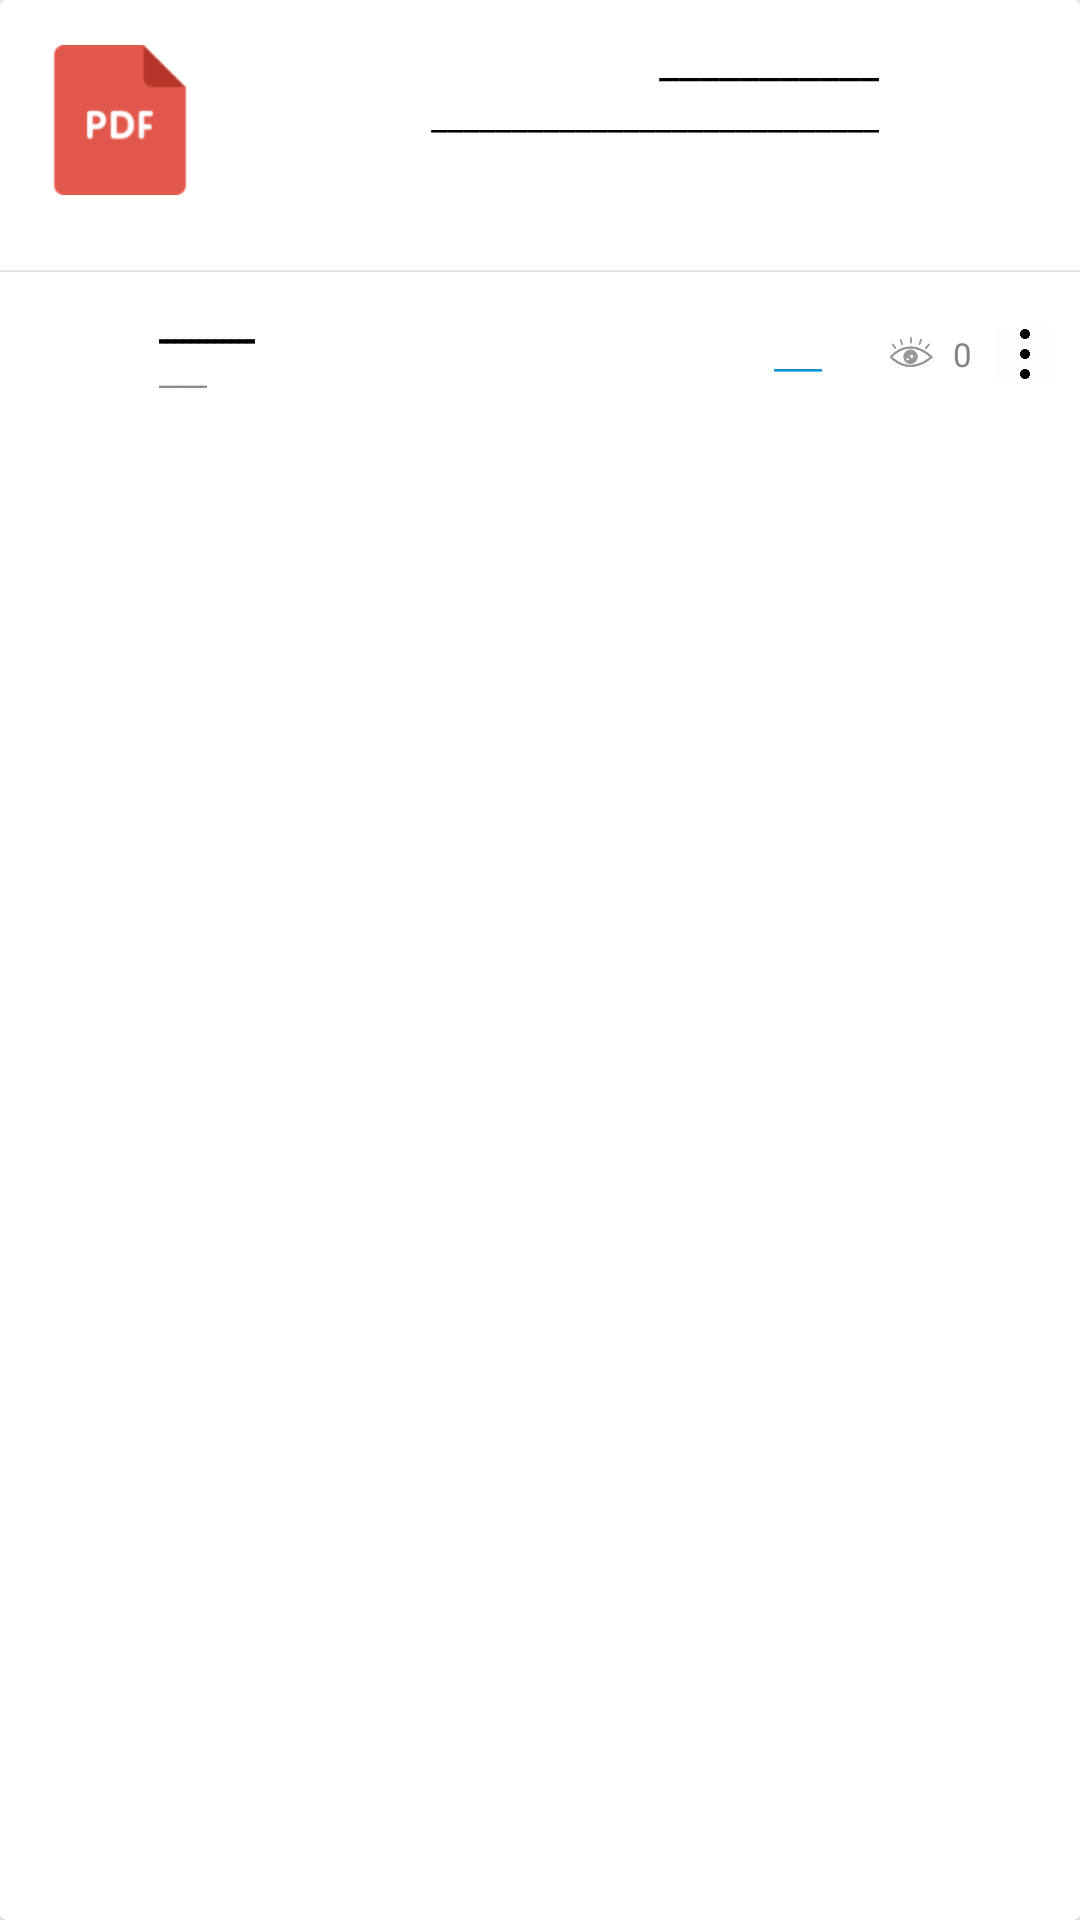

Named icons in this screenshot (1080w x 1920h) and their bounding boxes, (x1, y1, x2, y2):
eye: (890, 337, 933, 367)
more: (1020, 329, 1030, 379)
